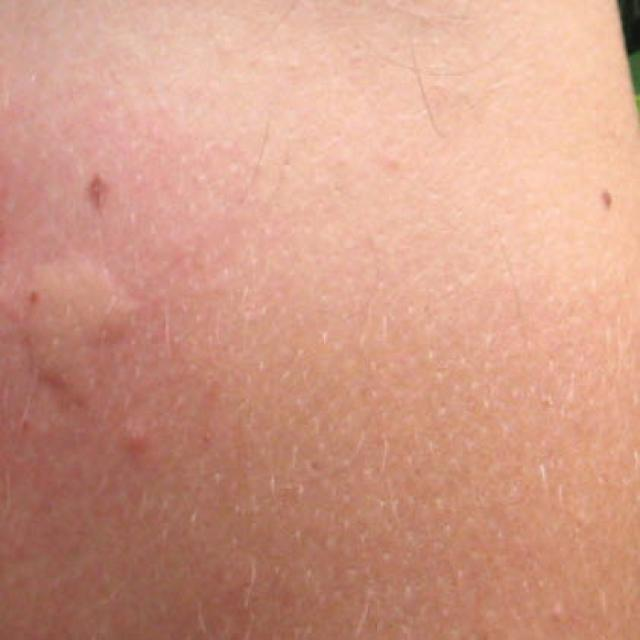sinek: (2, 224, 166, 446)
